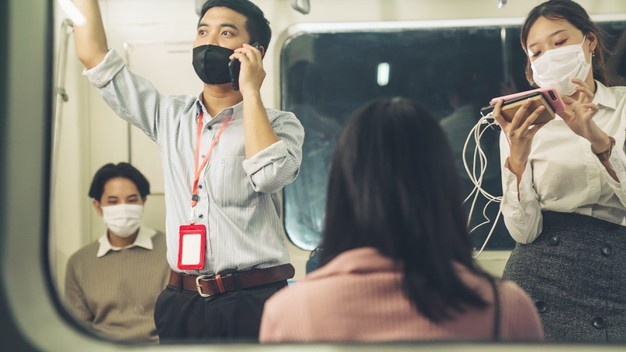with_mask: (191, 17, 252, 83), (527, 31, 588, 94), (98, 184, 146, 235)
